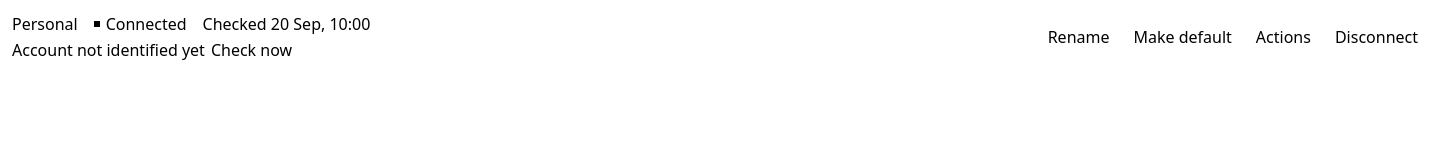
ConnectionRow — Rename and Make default (R-V5-13) › Make default posts is_default and moves the Default chip onto this account
Expected: the text "Personal" is shown, [12, 12, 78, 36]
Click the button "Make default". click: [1183, 37]
box: [1124, 23, 1242, 51]
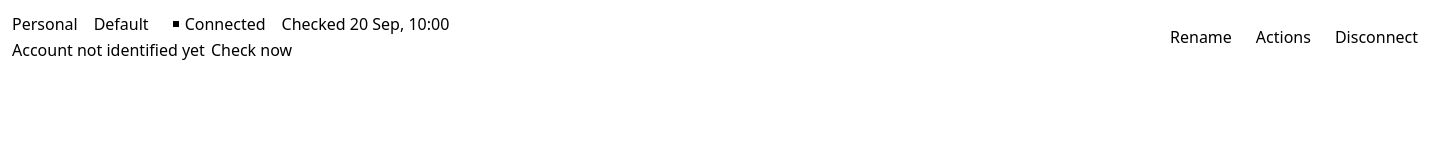
Expected: the text "Default" is shown, [94, 13, 149, 35]
Expected: the button "Make default" is gone
